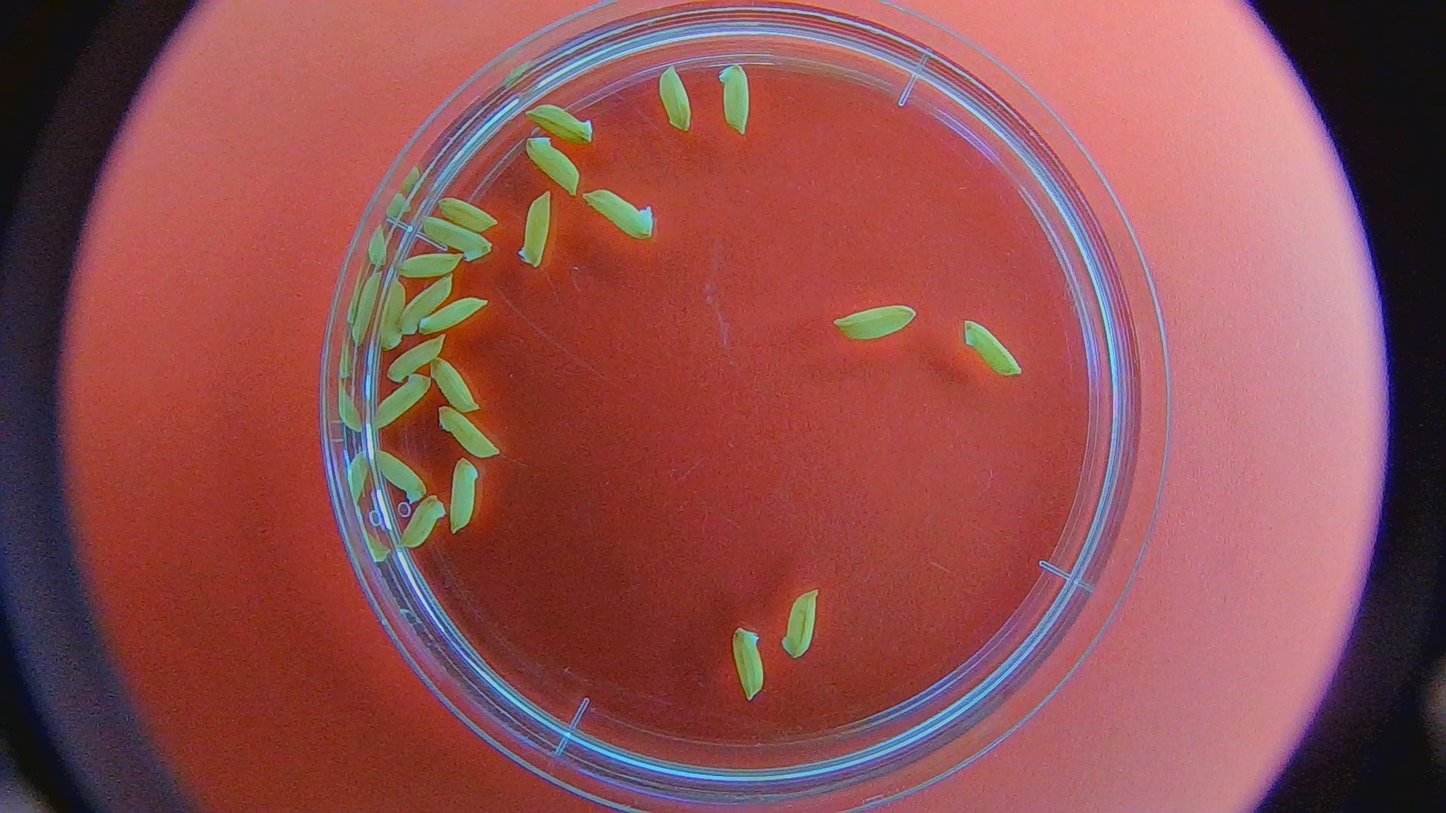no: (585, 190, 655, 243), (370, 373, 432, 429), (964, 318, 1023, 376), (524, 135, 581, 195), (832, 303, 917, 342), (399, 275, 452, 337), (440, 405, 499, 458), (424, 215, 490, 262), (526, 102, 593, 147), (373, 449, 426, 504), (517, 189, 553, 269), (428, 357, 479, 412), (385, 336, 445, 381), (398, 498, 447, 552), (416, 298, 487, 335), (781, 590, 817, 658), (657, 66, 694, 132), (733, 628, 765, 699), (435, 196, 495, 232), (450, 457, 478, 534), (376, 280, 406, 347), (721, 62, 749, 132), (397, 251, 460, 282)
